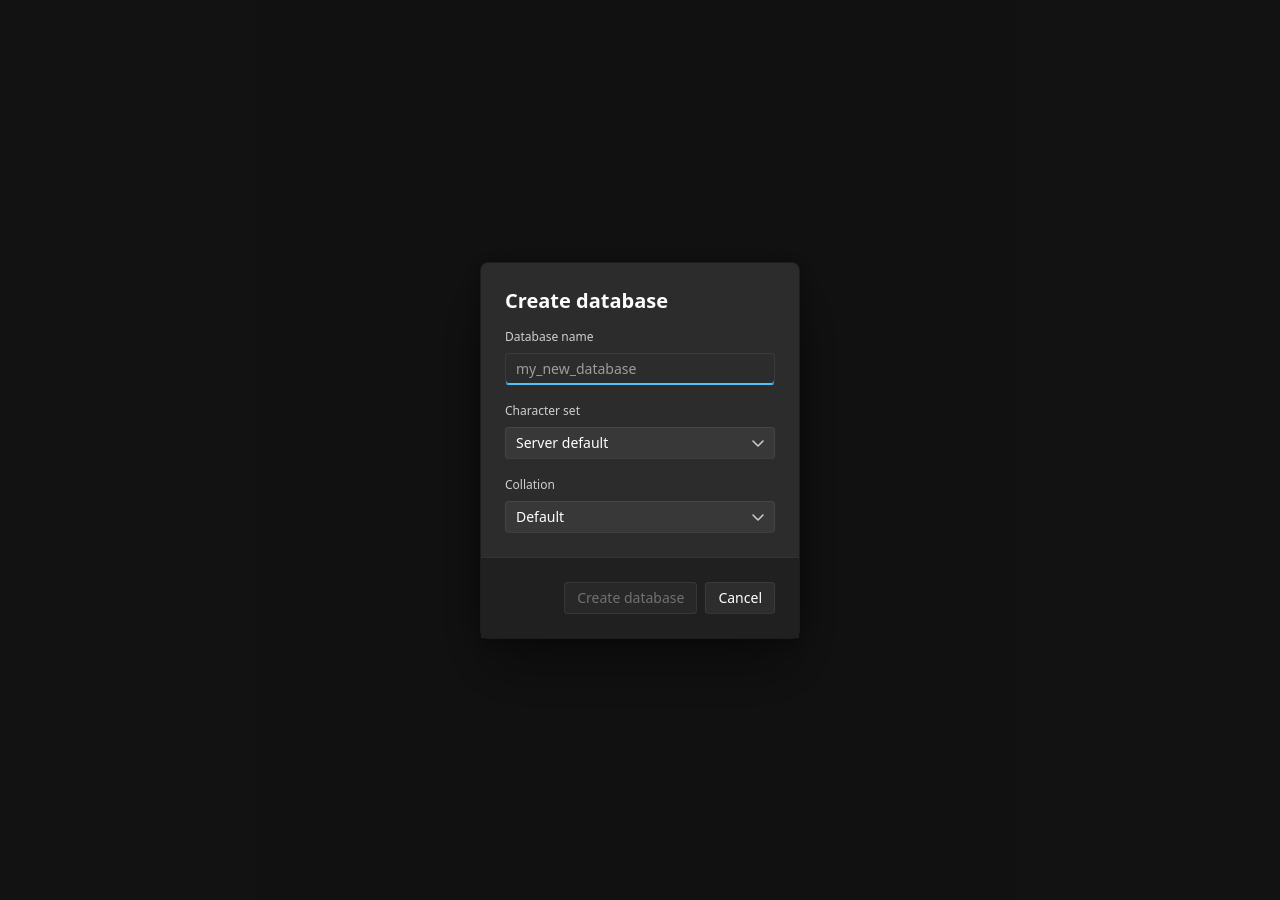
CreateDatabaseDialog › shows loading state during submission
This screenshot has width=1280, height=900.
Type "new_database" into the field with test id "create-db-name-input" at (640, 368), box x1=505 y1=352 x2=775 y2=384
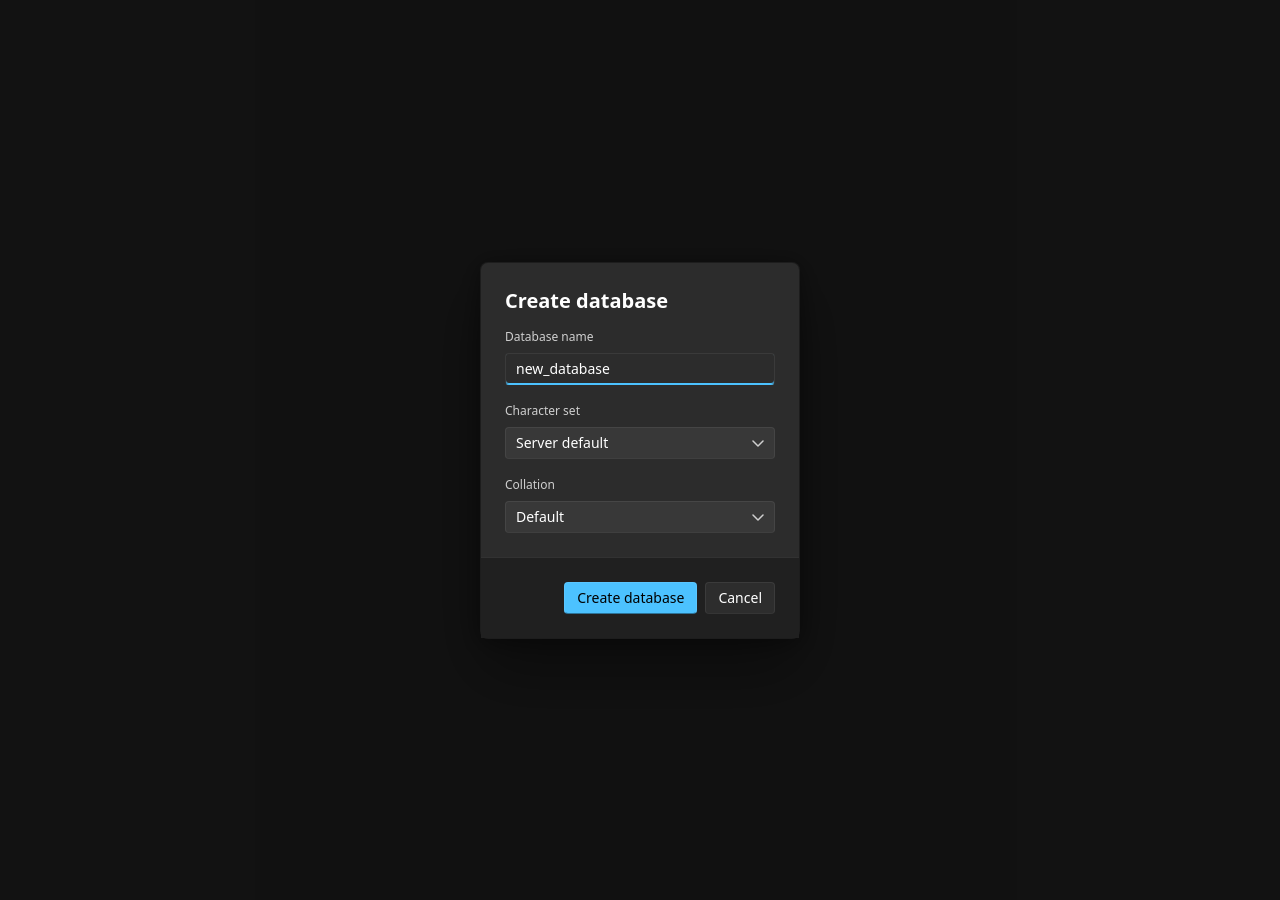
Click the button with test id "create-db-submit-button" at (631, 598), box x1=564 y1=582 x2=697 y2=614
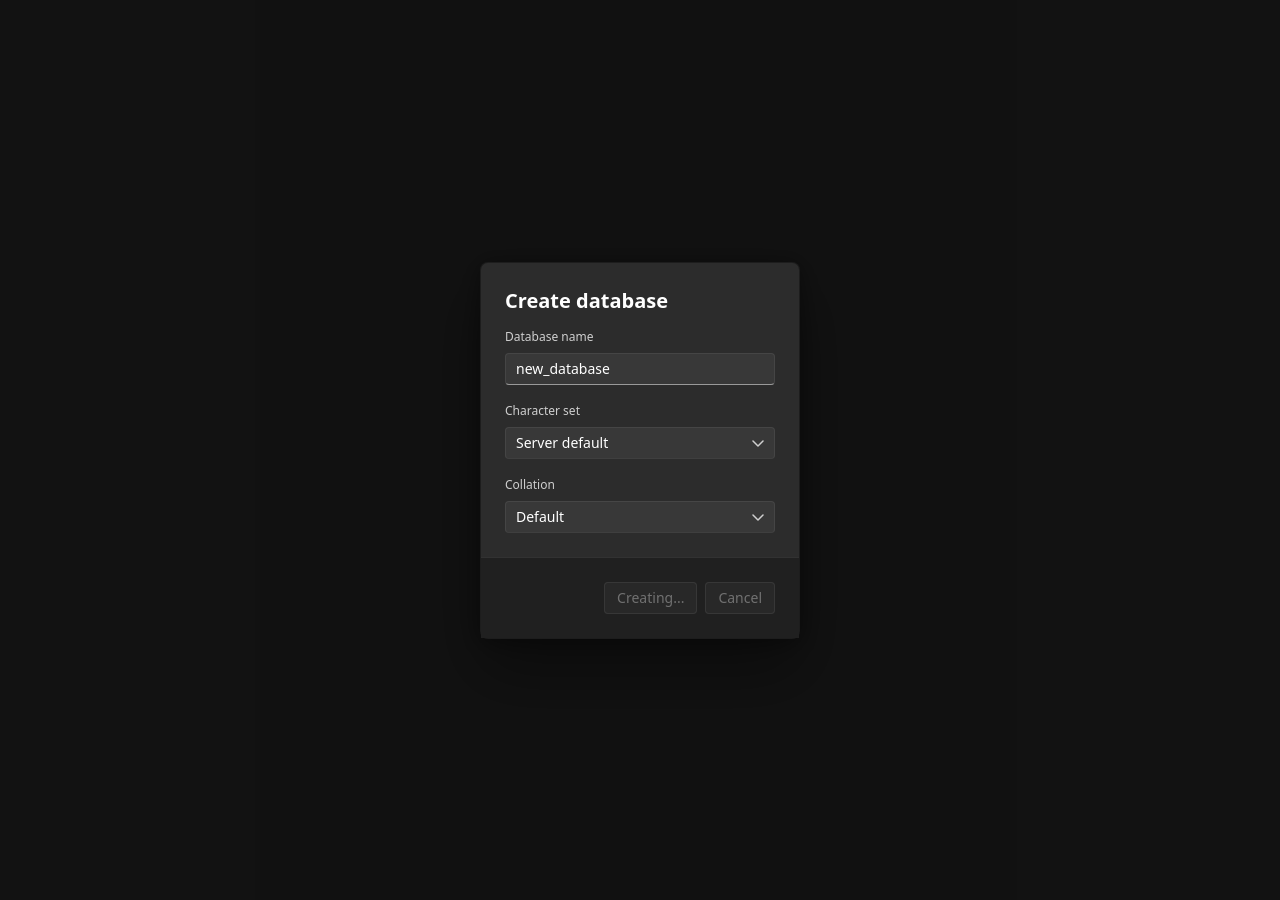
Now the button with test id "create-db-submit-button" reads "Creating...", box x1=604 y1=582 x2=697 y2=614
Now the button with test id "create-db-submit-button" is disabled, box x1=604 y1=582 x2=697 y2=614
